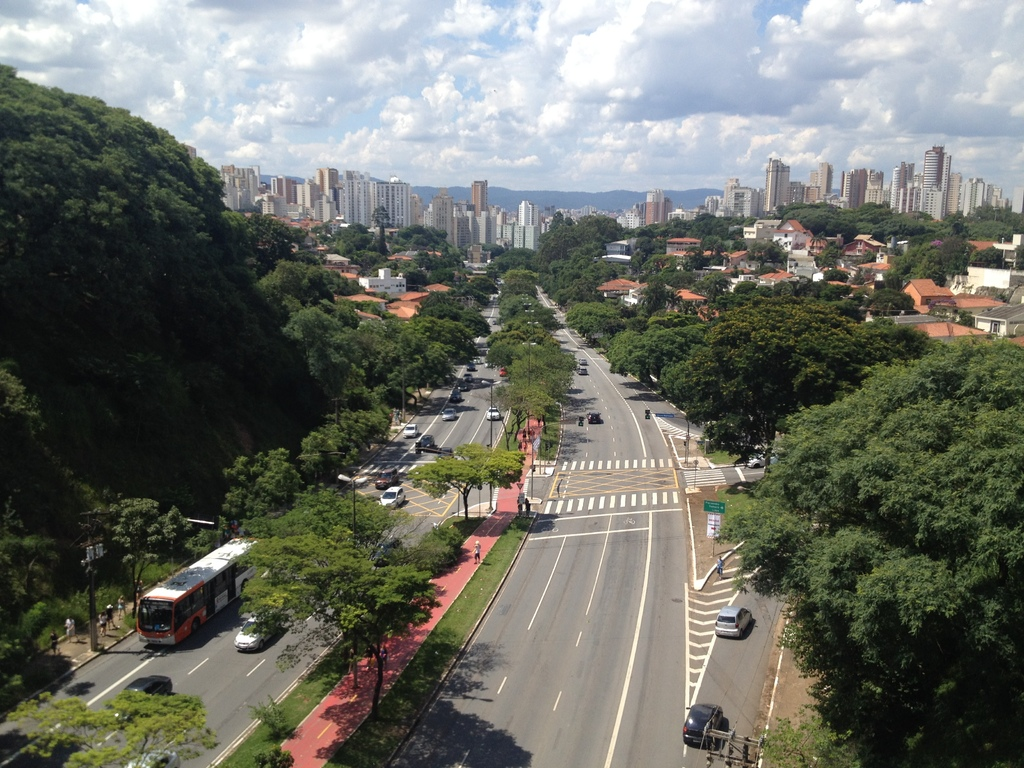Bus: (129, 536, 266, 642)
